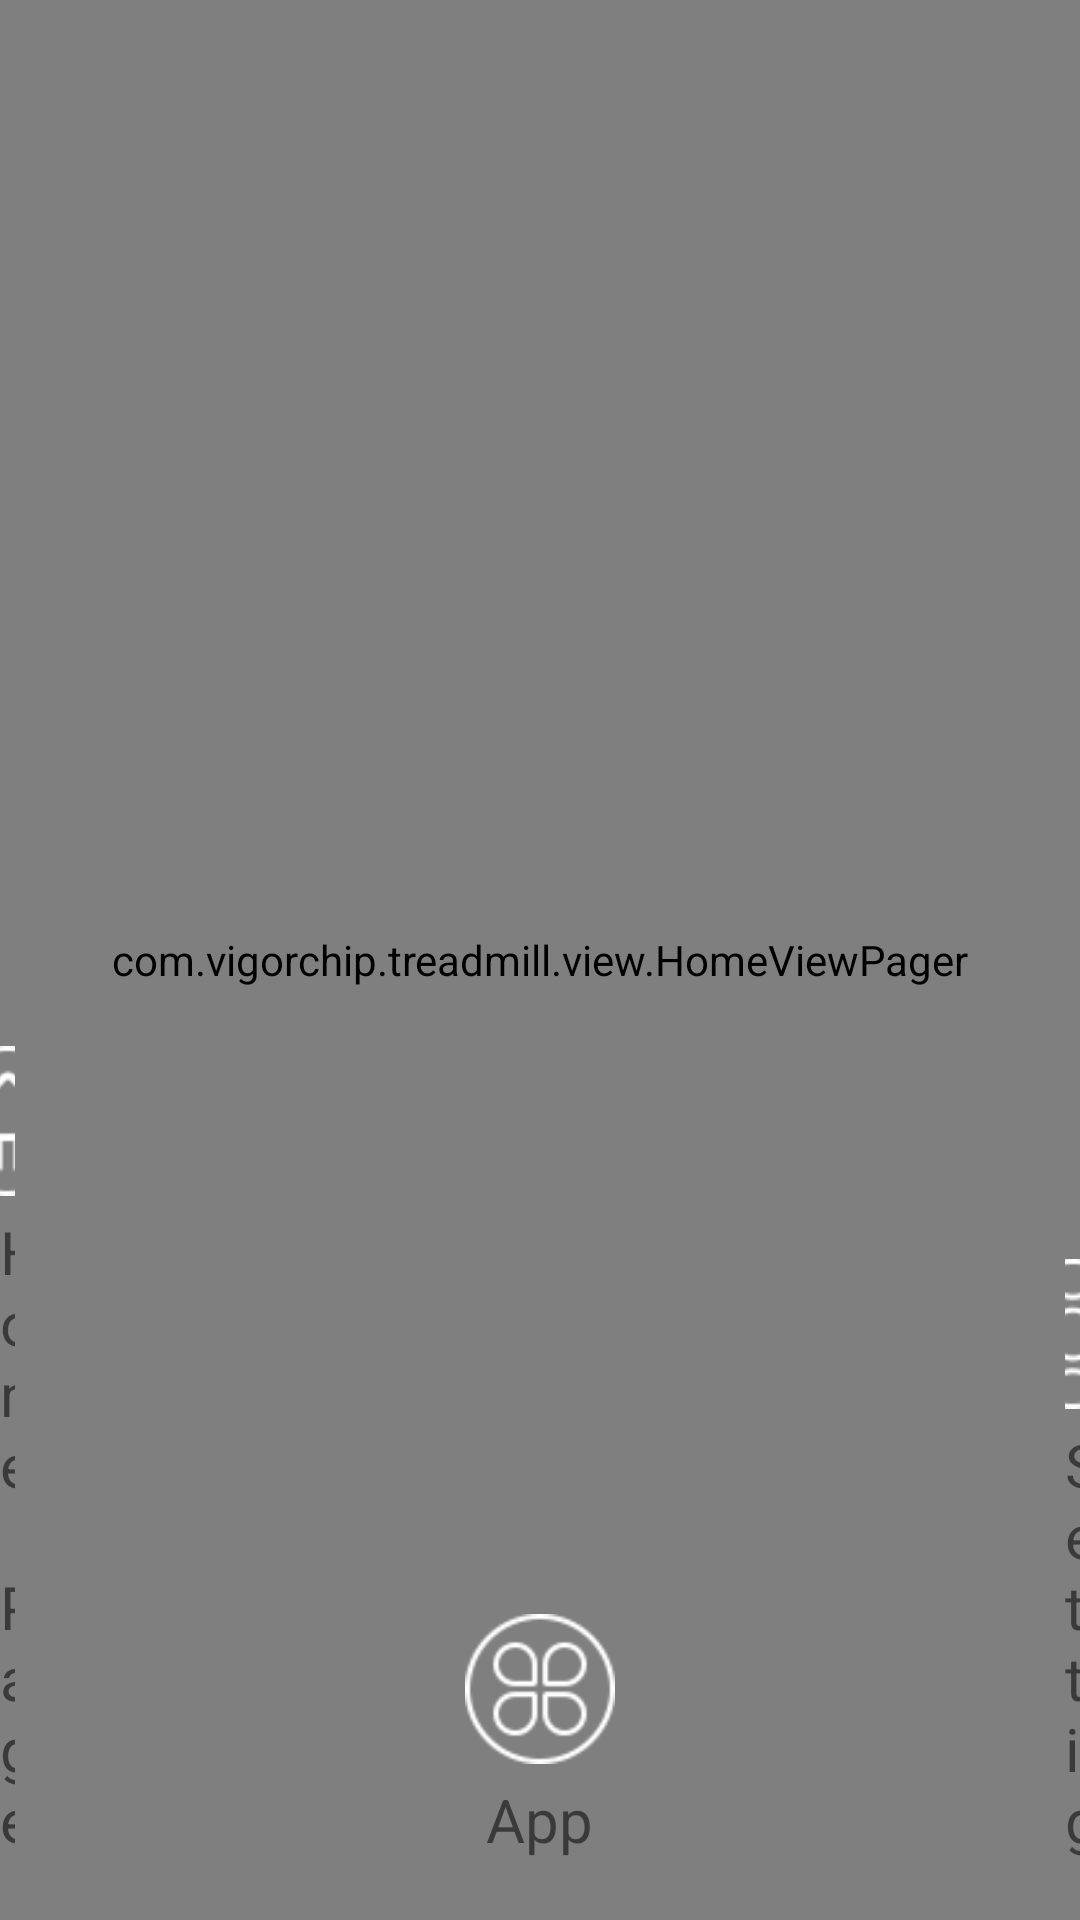

Screen size 1080w x 1920h. Icon name, then its box in pixels as (x1, y1, x2, y2):
home app: (465, 1614, 615, 1764)
